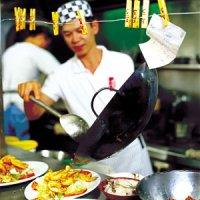person: (19, 1, 156, 182)
